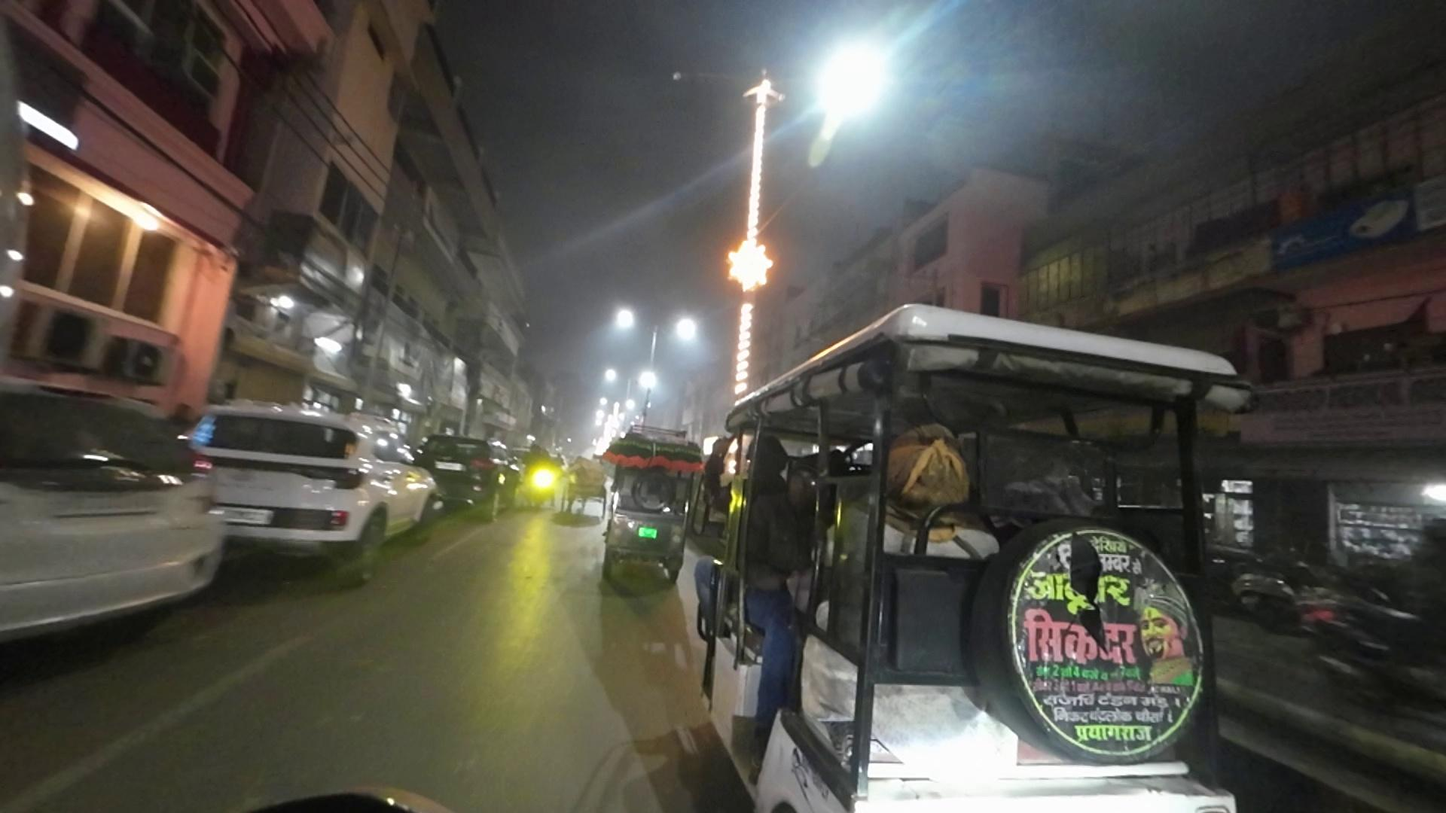streetlight: (668, 65, 753, 91)
